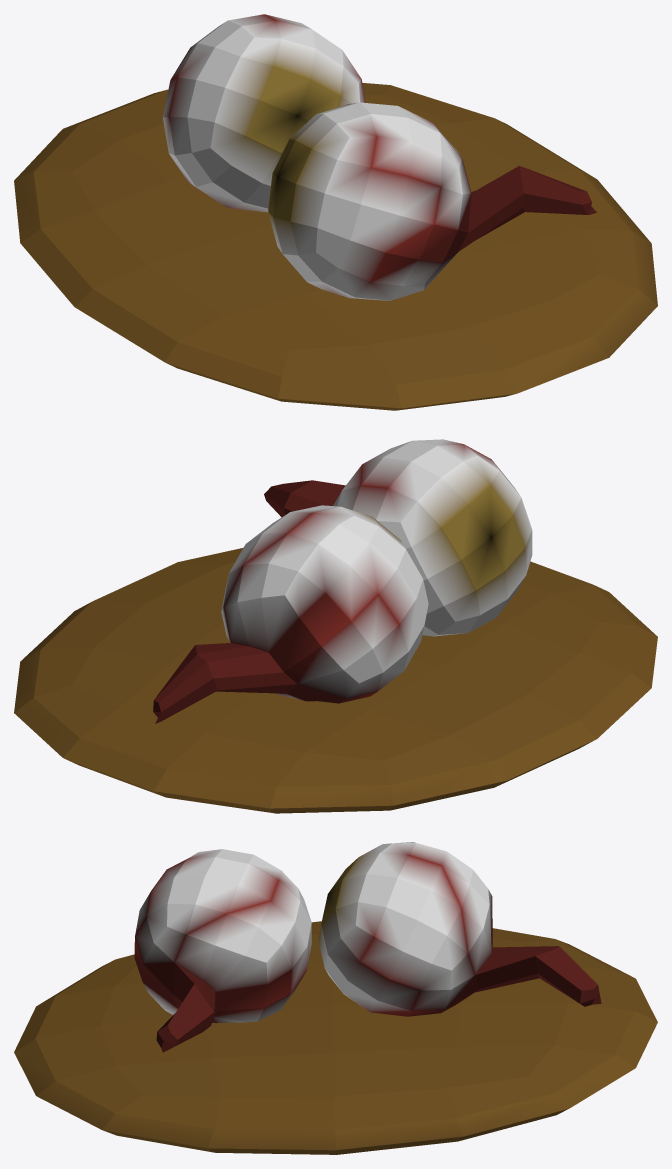
The model's file is ojo.fbx.
The picture shows the model from 3 angles, top to bottom: view 1: azimuth 30°, elevation 25°; view 2: azimuth 150°, elevation 25°; view 3: azimuth 270°, elevation 25°; orthographic projection. The views are drawn at different scales.
Visible parts, largest first — view 1: Cube.002; view 2: Cube.002; view 3: Cube.002.
Part boxes in pixels (x1,y1,x2,y2): Cube.002: (14,14,657,410); Cube.002: (14,439,657,813); Cube.002: (14,842,657,1154).
Bounding box in the file's own units: 14.67 × 6.34 × 17.68.
